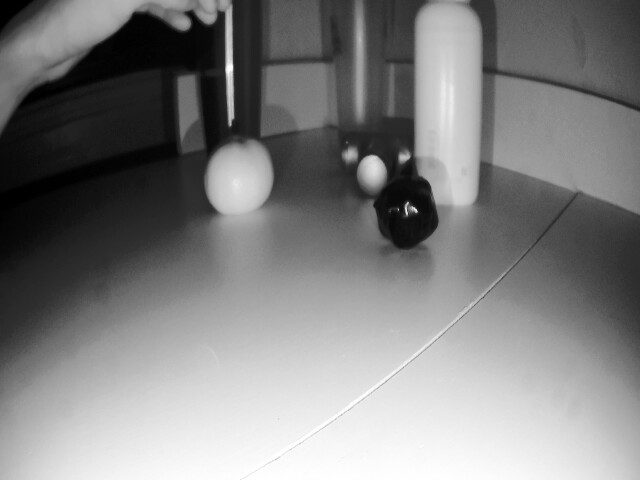silver: (378, 174, 449, 265)
